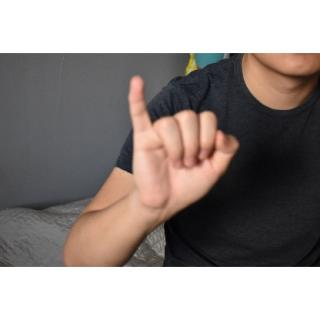MEEM: (124, 73, 243, 225)
